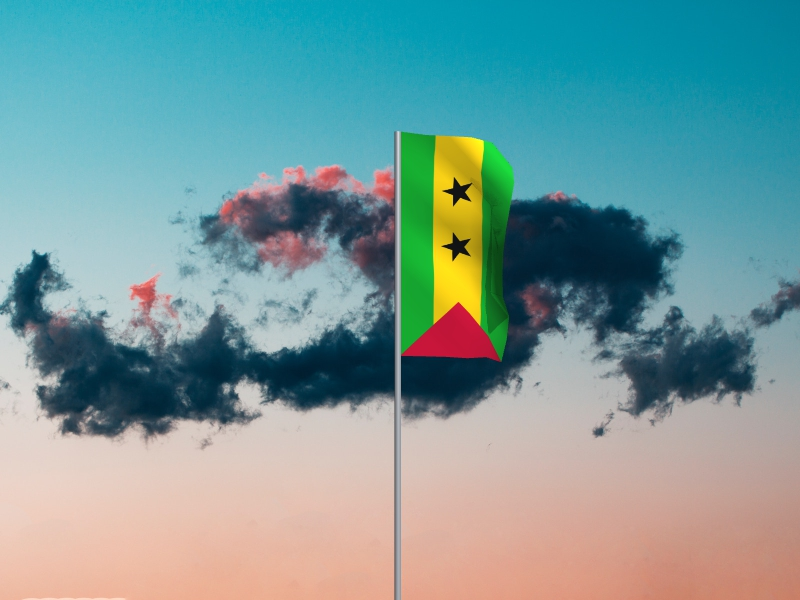st: (401, 133, 515, 363)
